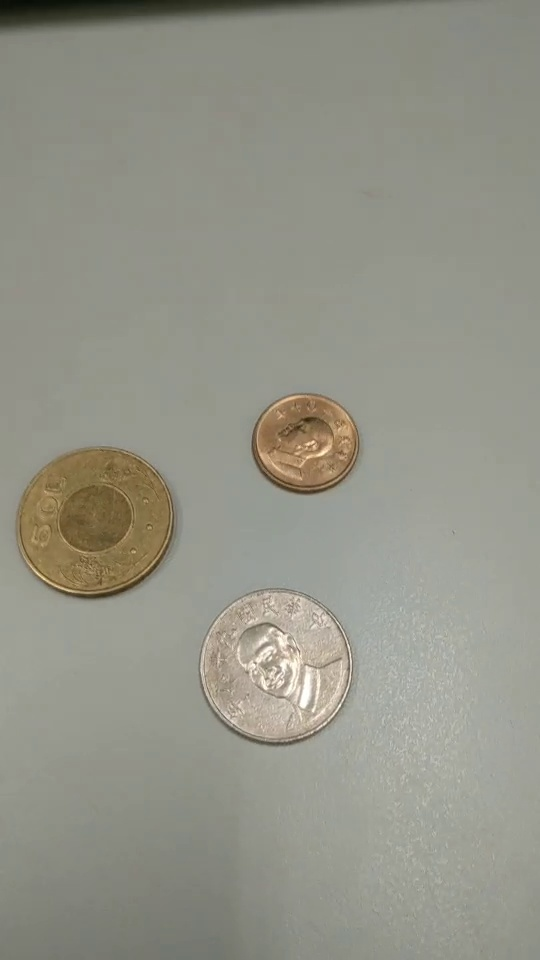NT$ 1: (252, 394, 362, 493)
NT$ 10: (196, 589, 353, 747)
NT$ 50: (16, 449, 173, 599)
